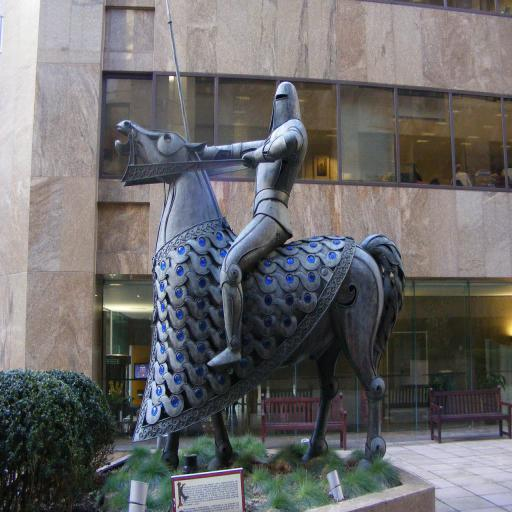horse: (114, 118, 409, 475)
